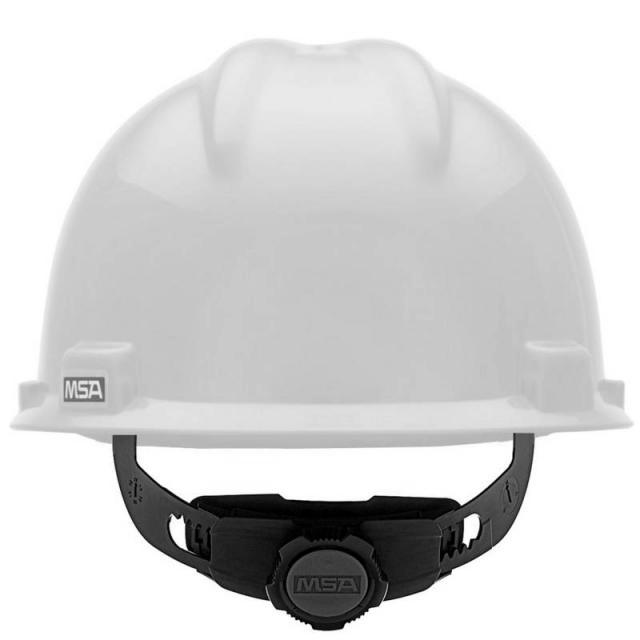construction helmet: (12, 37, 634, 630)
